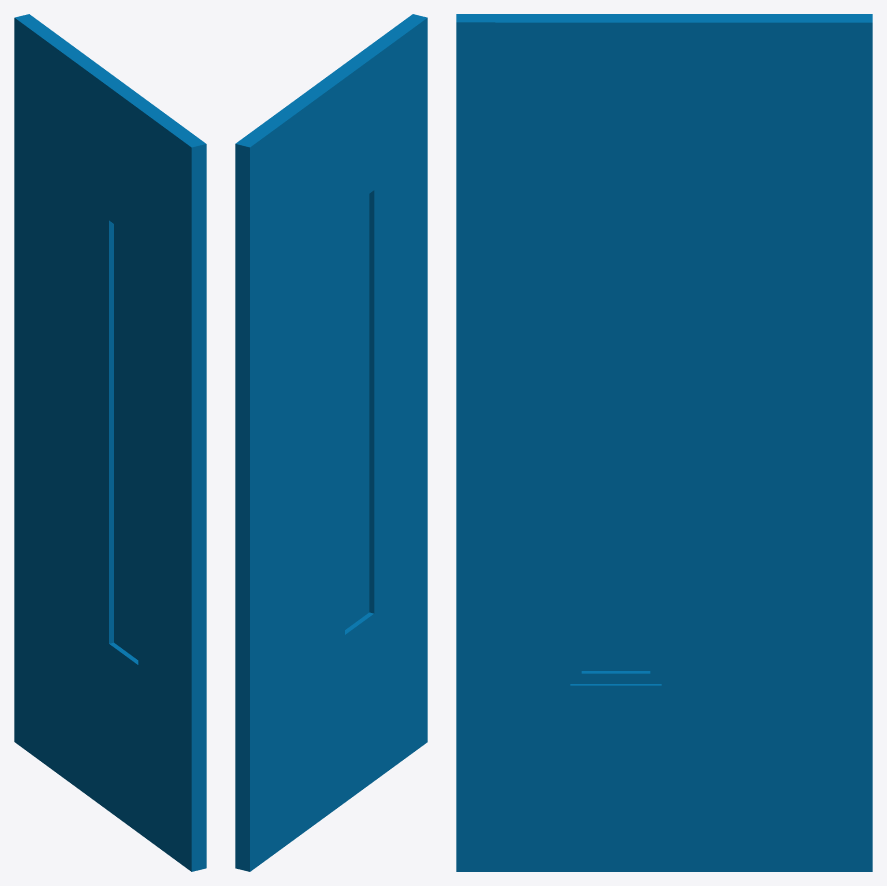
The model's file is MainDoor1aTransformed1.fbx.
The picture shows the model from 3 angles, left to right: view 1: azimuth 30°, elevation 25°; view 2: azimuth 150°, elevation 25°; view 3: azimuth 270°, elevation 25°; orthographic projection. The views are drawn at different scales.
Visible parts, largest first — view 1: HB_Door_Concept_Int_Dbl_Solid_VP_- DT-04:1910x2110mm RB DT 0; view 2: HB_Door_Concept_Int_Dbl_Solid_VP_- DT-04:1910x2110mm RB DT 0; view 3: HB_Door_Concept_Int_Dbl_Solid_VP_- DT-04:1910x2110mm RB DT 0.
Boxes of the visible parts, x1,y1,x2,y2 form: HB_Door_Concept_Int_Dbl_Solid_VP_- DT-04:1910x2110mm RB DT 0: [14, 14, 206, 871]; HB_Door_Concept_Int_Dbl_Solid_VP_- DT-04:1910x2110mm RB DT 0: [235, 14, 427, 871]; HB_Door_Concept_Int_Dbl_Solid_VP_- DT-04:1910x2110mm RB DT 0: [456, 14, 872, 871].
Bounding box in the file's own units: 0.0446 × 2.05 × 0.9115.
